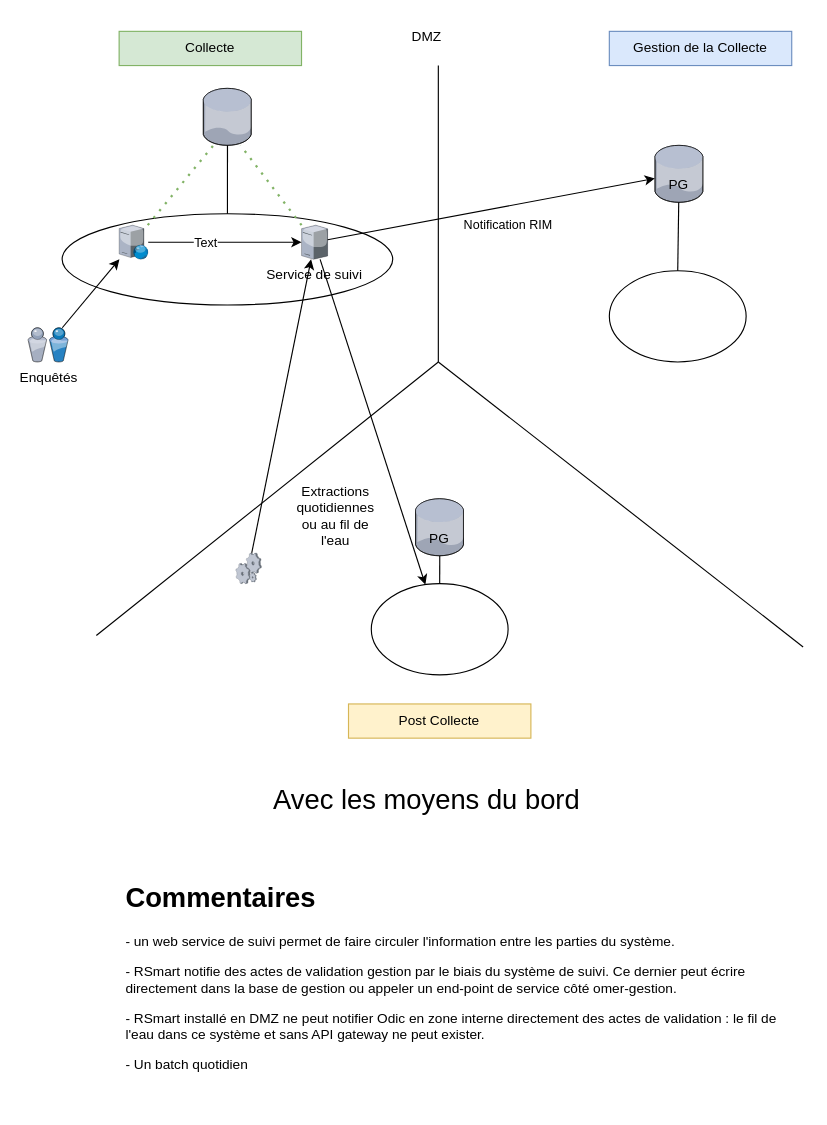
This 827x1125 diagram has some shape labels left out. Here are the shapes that lost their labels. From the top down, the centre of each, then its label:
At (227,116): "Mongo".
At (133,242): "RSmart".
At (677,316): "Omer Gestion".
At (439,629): "Odic".
